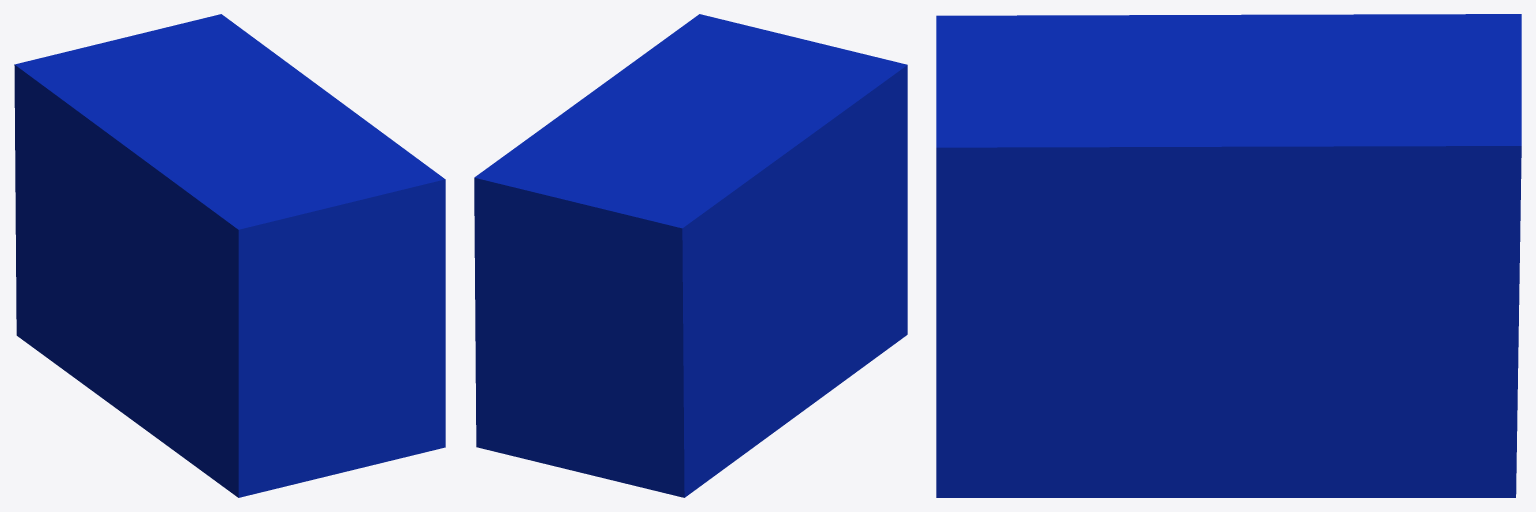
The model's file is simple_example_hole_part_53.obj.
3 renders of one model, left to right at view 1: azimuth 30°, elevation 25°; view 2: azimuth 150°, elevation 25°; view 3: azimuth 270°, elevation 25°, orthographic. The views are drawn at different scales.
Bounding box in the file's own units: 8.08 × 10.05 × 15.14.
